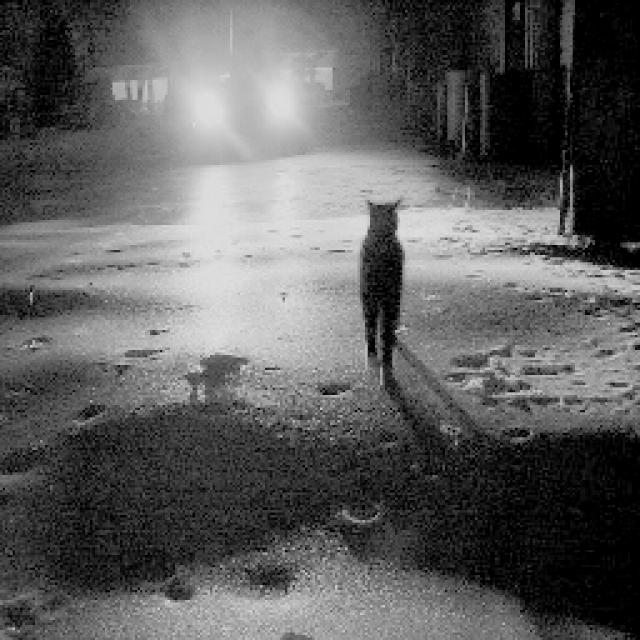cat: (332, 188, 432, 394)
